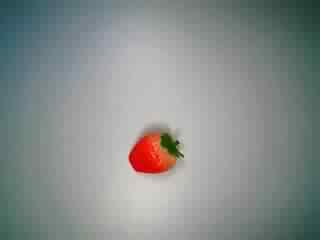strawberry: (122, 120, 187, 182)
